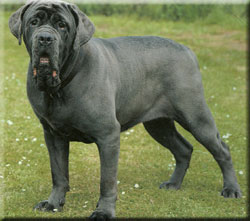neapolitan_mastiff: (8, 0, 240, 216)
